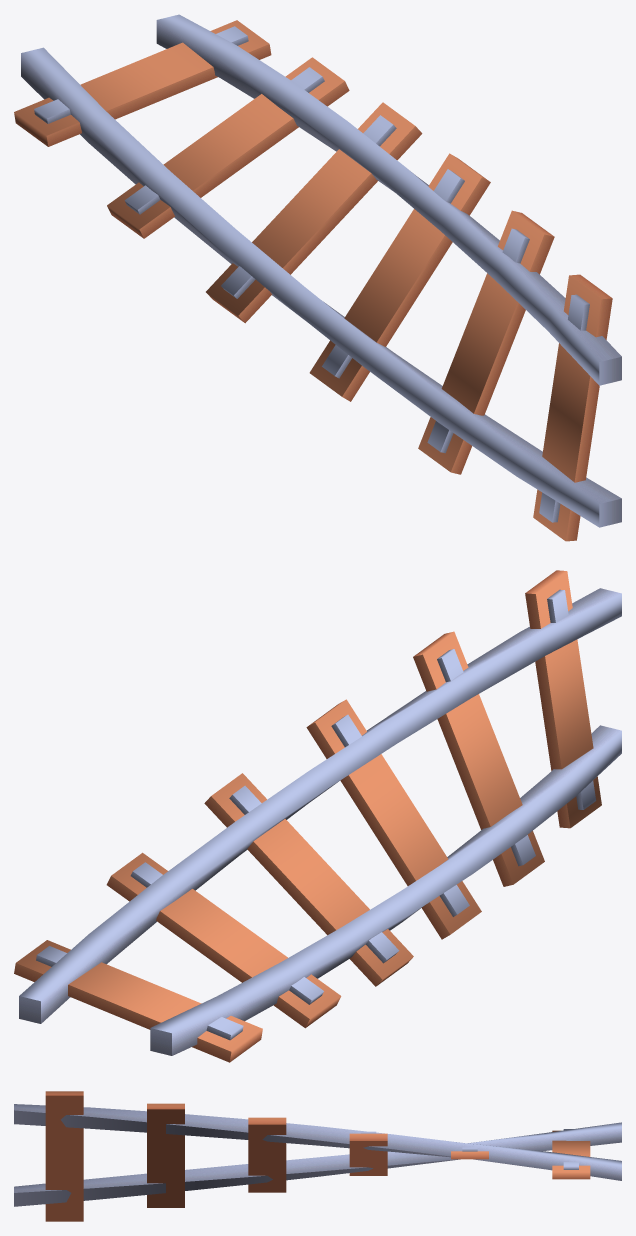
Rendered from kenney-train-railroad-straight-skew-right-side.glb.
3 renders of one model, top to bottom at view 1: azimuth 30°, elevation 25°; view 2: azimuth 150°, elevation 25°; view 3: azimuth 270°, elevation 25°, orthographic. The views are drawn at different scales.
Visible parts, largest first — view 1: railroad-straight-skew-right-side; view 2: railroad-straight-skew-right-side; view 3: railroad-straight-skew-right-side.
Part boxes in pixels (left/top/right/bottom): railroad-straight-skew-right-side: left=14, top=14, right=621, bottom=541; railroad-straight-skew-right-side: left=14, top=570, right=621, bottom=1062; railroad-straight-skew-right-side: left=14, top=1091, right=621, bottom=1221.
Size of the model in its own units: 0.9951 by 0.9951 by 4.
Materials: 1 (1 with a texture image).
